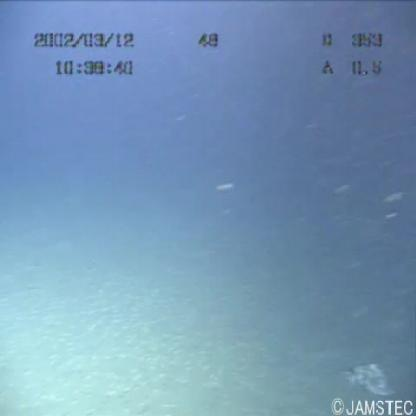Rác: (338, 359, 402, 407)
